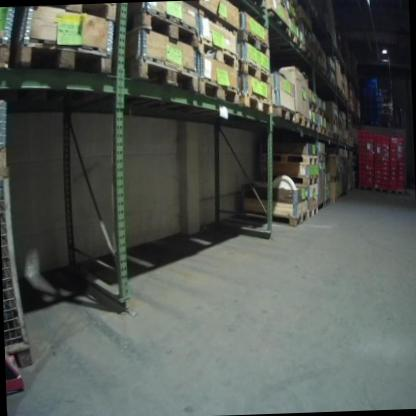pallet: (15, 35, 114, 77), (126, 4, 200, 52), (126, 52, 200, 97), (198, 36, 240, 73), (243, 206, 309, 229), (197, 3, 238, 39), (198, 75, 241, 109), (51, 3, 120, 24), (261, 149, 319, 169), (239, 27, 271, 59), (240, 57, 272, 86), (239, 89, 274, 114), (266, 7, 290, 35), (273, 104, 297, 124), (293, 173, 319, 187), (289, 28, 303, 51), (295, 111, 310, 129), (302, 45, 316, 63), (307, 206, 318, 220), (357, 185, 375, 193), (374, 186, 389, 195), (308, 121, 319, 133), (309, 101, 319, 114), (389, 189, 405, 196), (318, 107, 327, 119), (317, 126, 327, 136), (332, 195, 341, 203), (331, 119, 339, 127), (324, 198, 331, 207), (318, 155, 326, 162)
stillage: (0, 154, 33, 385)
